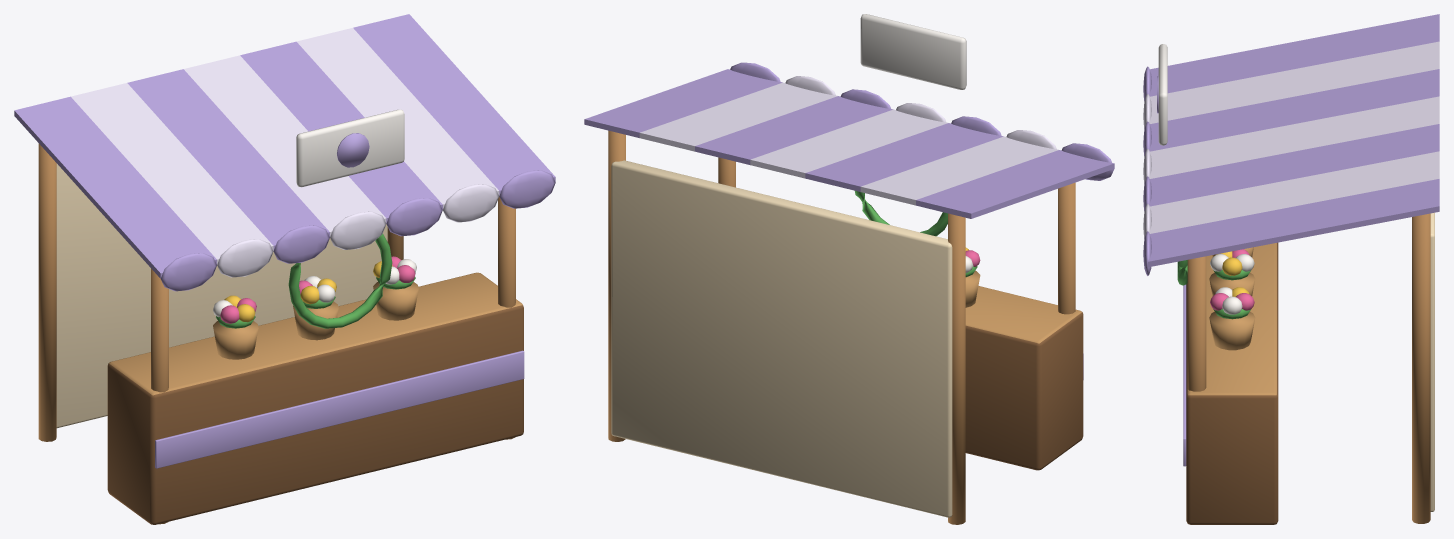
Rendered from festival-booth-flower.glb.
The picture shows the model from 3 angles, left to right: view 1: azimuth 30°, elevation 25°; view 2: azimuth 150°, elevation 25°; view 3: azimuth 270°, elevation 25°; orthographic projection. The views are drawn at different scales.
Visible parts, largest first — view 1: booth, goods; view 2: booth, goods; view 3: booth, goods.
Part boxes in pixels (bbox=[...]): booth: bbox=[14, 14, 555, 524]; goods: bbox=[213, 233, 418, 359]; booth: bbox=[584, 14, 1114, 524]; goods: bbox=[855, 191, 980, 307]; booth: bbox=[1143, 14, 1439, 524]; goods: bbox=[1177, 247, 1255, 350].
Size of the model in its own units: 2.96 by 2.64 by 1.93.
